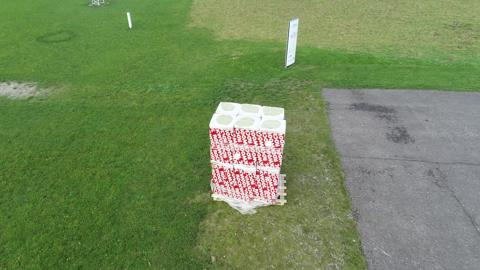RockwoolPallet: (209, 101, 288, 206)
